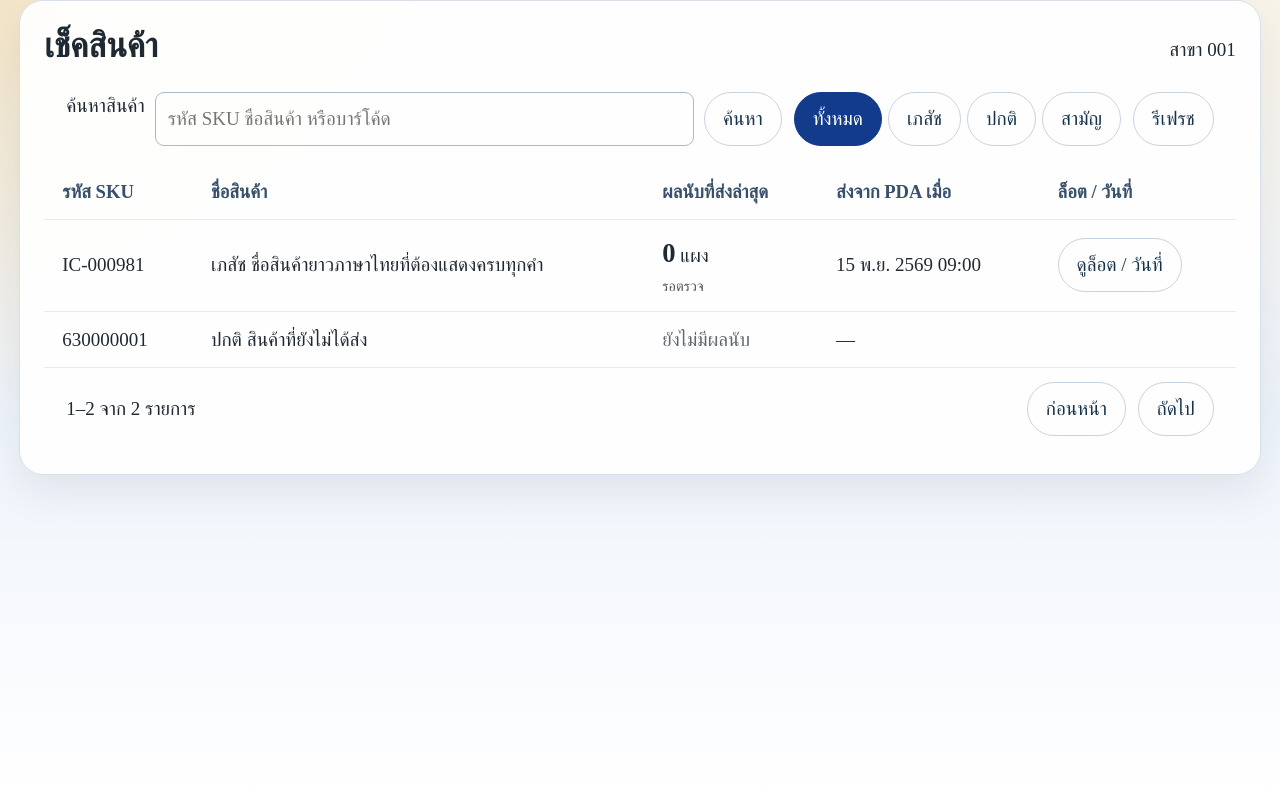
Test case: shows latest PDA receipt, full names, zero and unsubmitted products distinctly
Check: the text "เภสัช ชื่อสินค้ายาวภาษาไทยที่ต้องแสดงครบทุกคำ" is shown, box [193,219,644,311]
Check: the text "ยังไม่มีผลนับ" is shown, box [662,329,750,350]
Step 1. Click the button "ดูล็อต / วันที่" → (1120, 265), box [1058,238,1182,292]
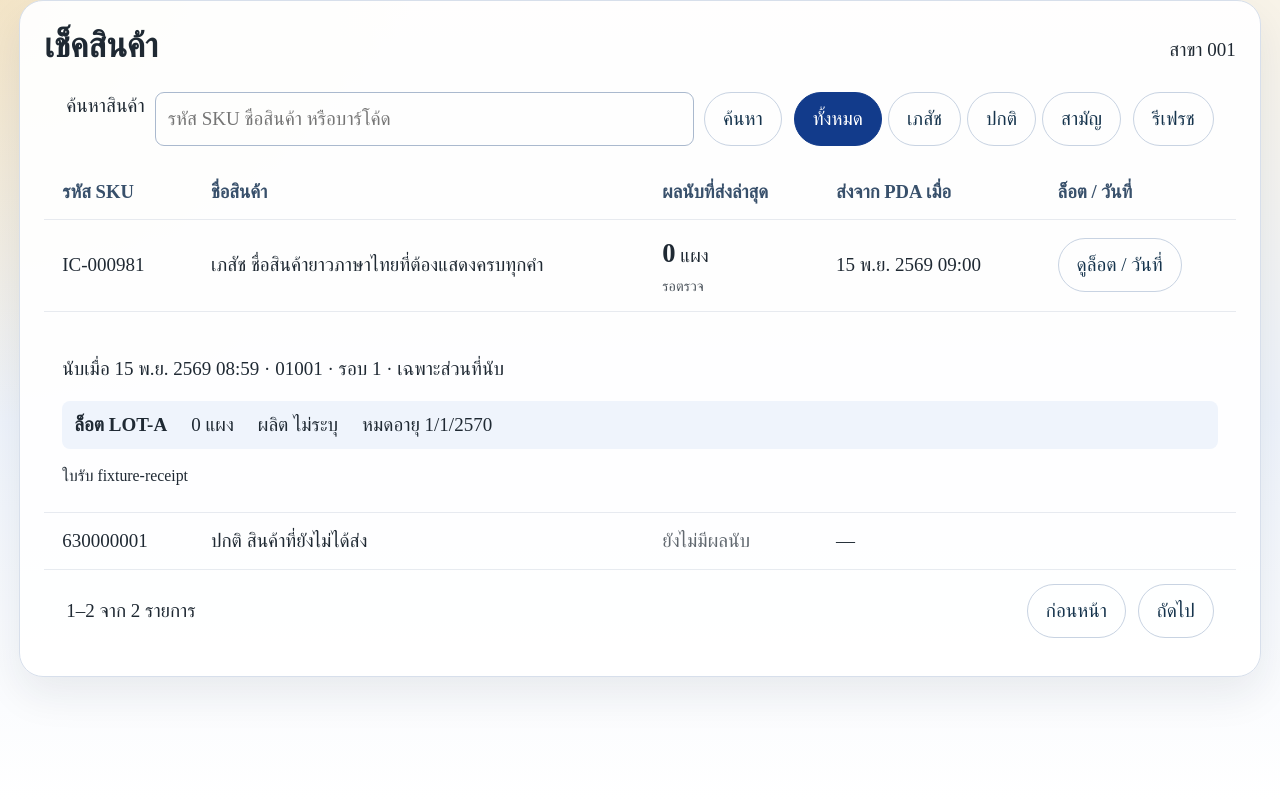
Check: the text "ล็อต LOT-A" is shown, box [74,411,167,439]
Check: the text "ผลิต ไม่ระบุ" is shown, box [258,411,338,439]
Check: the text "หมดอายุ 1/1/2570" is shown, box [362,411,492,439]
